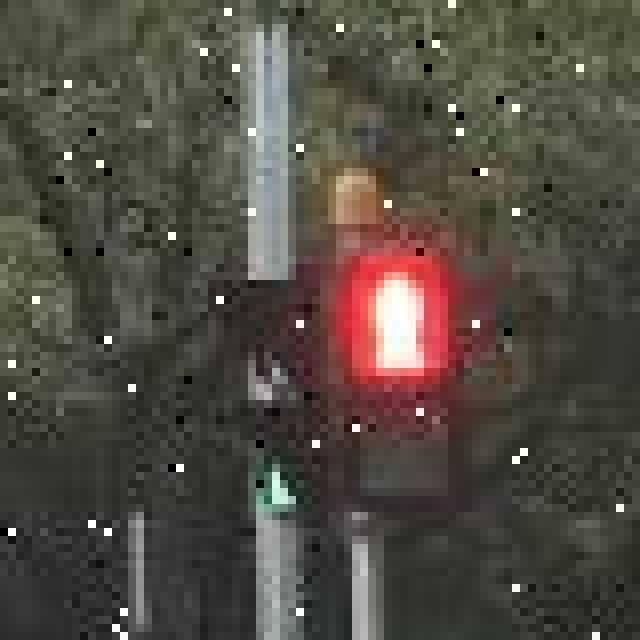redlight: (329, 241, 483, 548)
